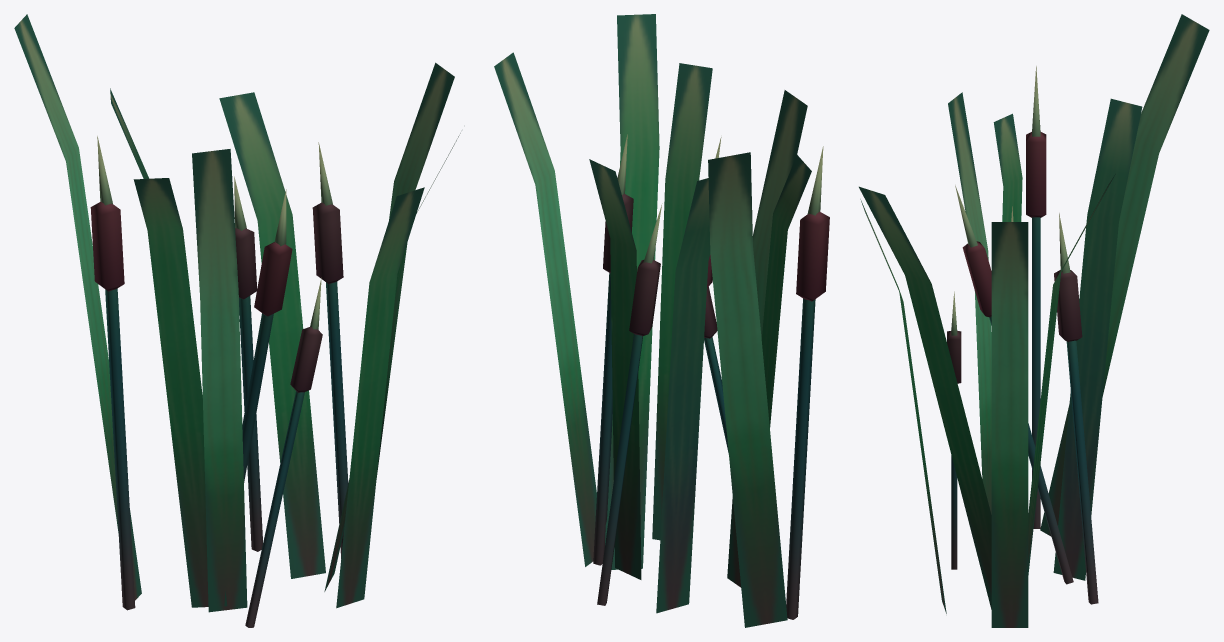
File: OBJ_FoliageWater_Reed.fbx
3 renders of one model, left to right at view 1: azimuth 30°, elevation 25°; view 2: azimuth 150°, elevation 25°; view 3: azimuth 270°, elevation 25°, orthographic. The views are drawn at different scales.
Parts seen in each view (by area): view 1: vass; view 2: vass; view 3: vass.
Boxes of the visible parts, left/top/right/bottom form: vass: left=14, top=14, right=460, bottom=627; vass: left=494, top=14, right=829, bottom=627; vass: left=859, top=14, right=1209, bottom=627.
Size of the model in its own units: 0.9554 by 1.46 by 0.9173.
